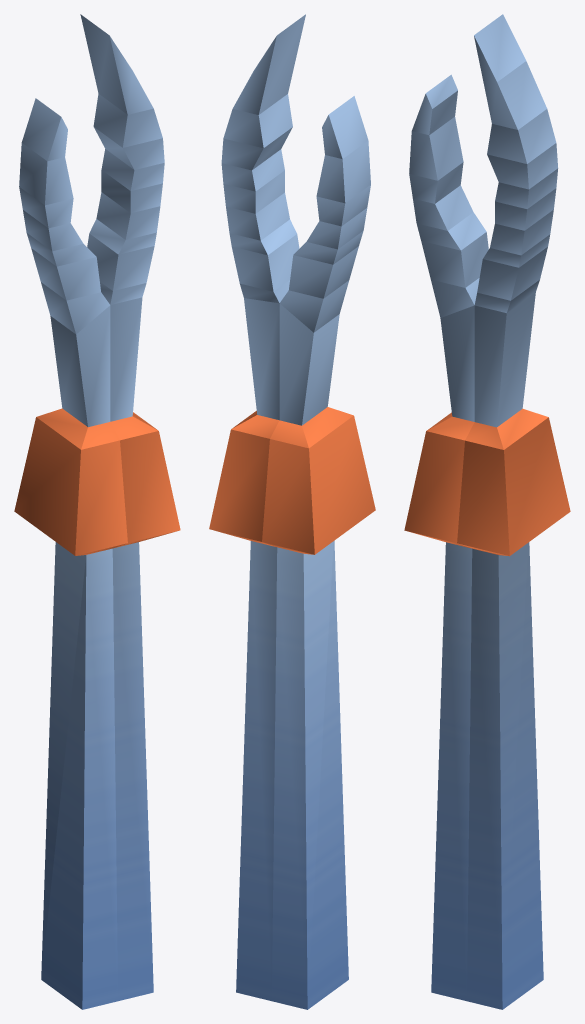
File: varita_inv.fbx
3 views of the same model, side by side, from view 1: azimuth 30°, elevation 25°; view 2: azimuth 150°, elevation 25°; view 3: azimuth 330°, elevation 25° (orthographic).
Visible parts, largest first — view 1: varita_inv; view 2: varita_inv; view 3: varita_inv.
Boxes of the visible parts, x1=… form: varita_inv: x1=14, y1=14, x2=180, y2=1009; varita_inv: x1=209, y1=14, x2=375, y2=1009; varita_inv: x1=404, y1=14, x2=570, y2=1009.
Size of the model in its own units: 13.98 by 107 by 12.3.
1 material, 1 textured.
